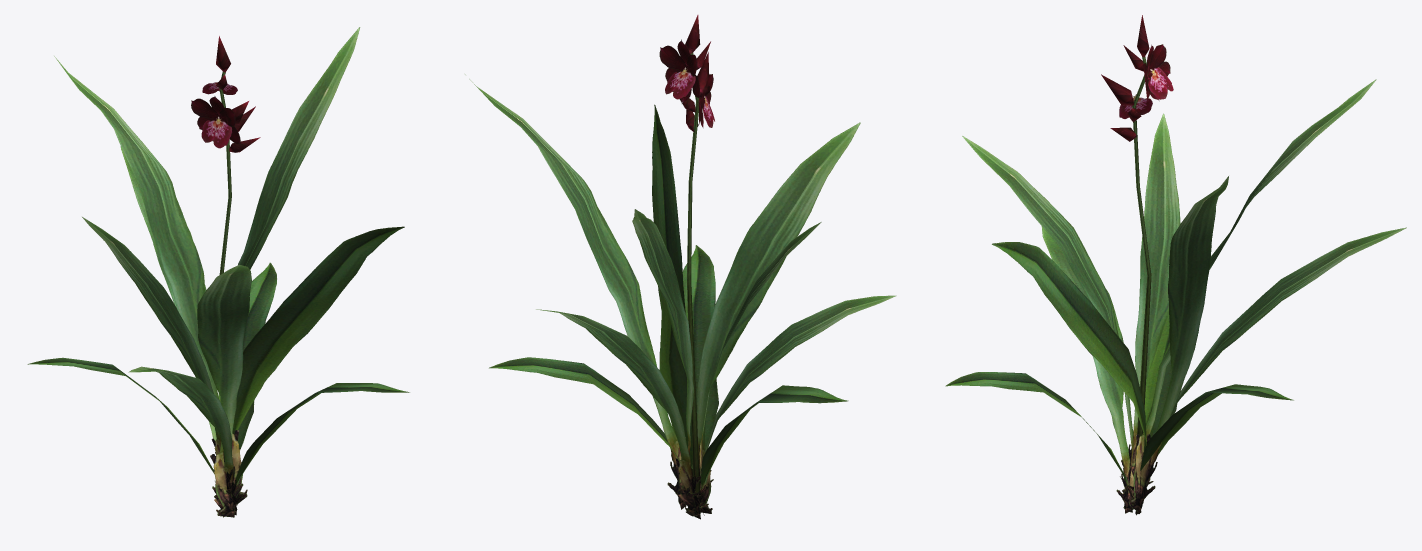
File: MK4_Trop_Plant4.DAE
3 renders of one model, left to right at view 1: azimuth 30°, elevation 25°; view 2: azimuth 150°, elevation 25°; view 3: azimuth 270°, elevation 25°, orthographic. The views are drawn at different scales.
Parts seen in each view (by area): view 1: MK4_Trop_Plant4; view 2: MK4_Trop_Plant4; view 3: MK4_Trop_Plant4.
Part boxes in pixels (box(x1,y1,x2,y2)): MK4_Trop_Plant4: box(27, 27, 409, 517); MK4_Trop_Plant4: box(465, 15, 896, 519); MK4_Trop_Plant4: box(945, 15, 1406, 515).
Size of the model in its own units: 1.25 by 1.36 by 1.59.
